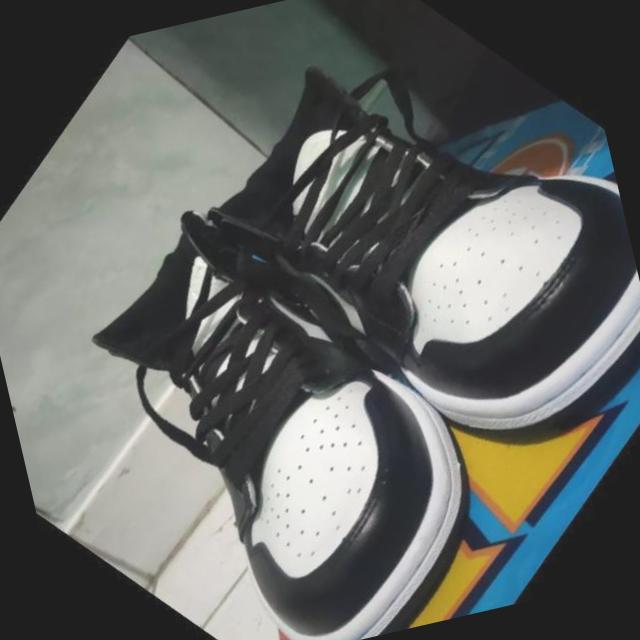nike_fake_jordan: (130, 0, 640, 553), (0, 142, 565, 640)
